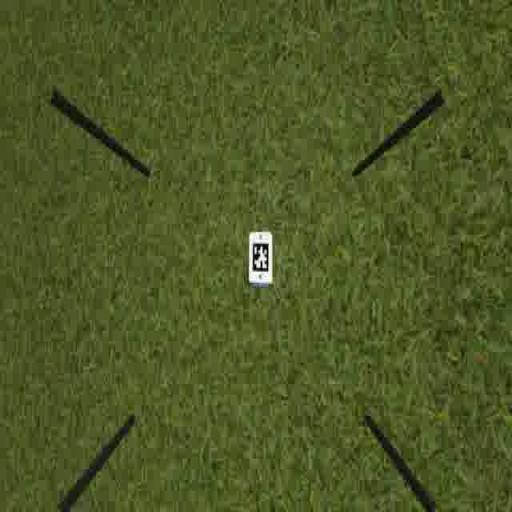UGV: (246, 225, 274, 290)
